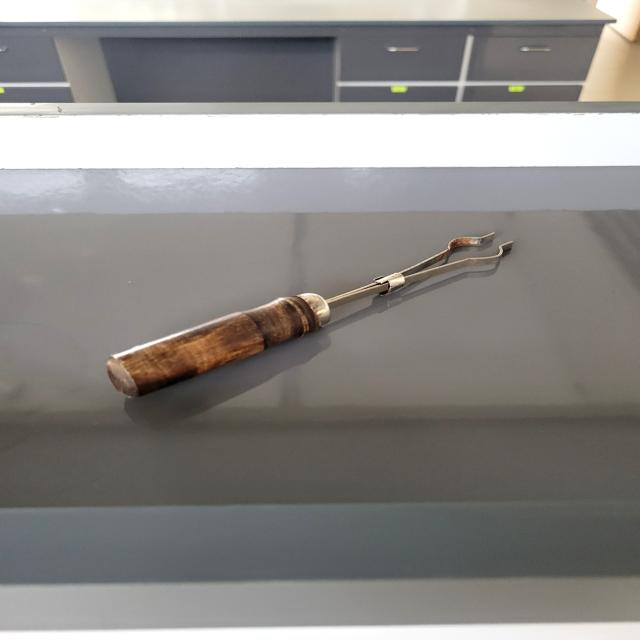TestTube_Holder: (64, 196, 524, 419)
